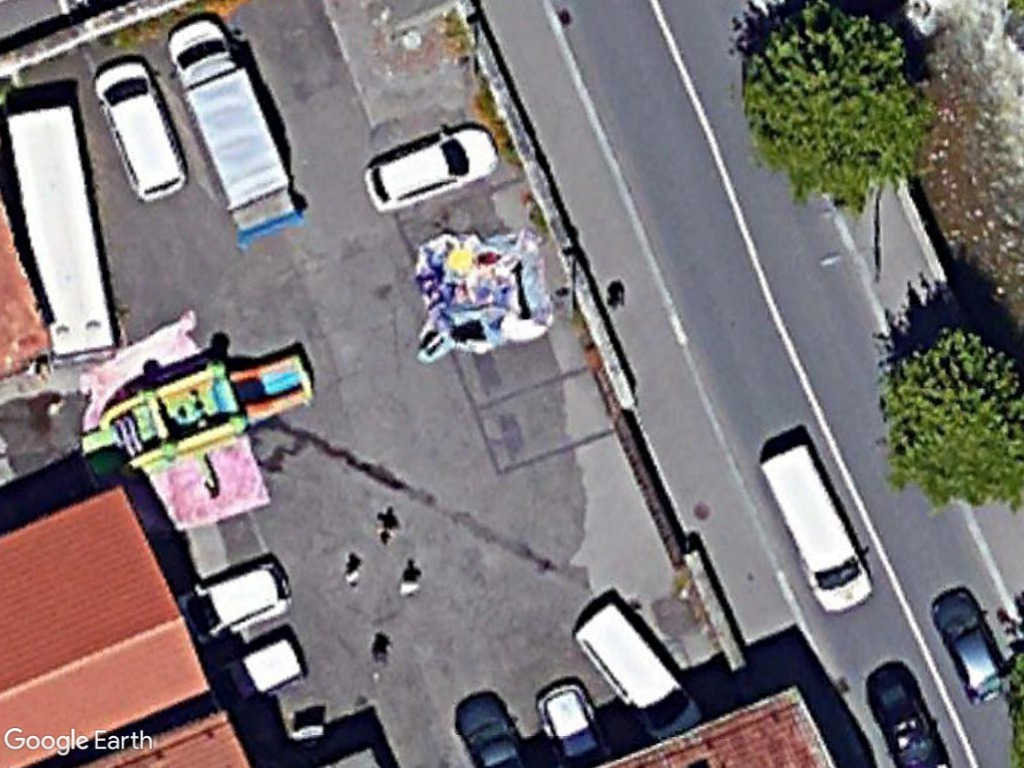car: (361, 115, 500, 223), (929, 582, 1005, 702)
truck: (160, 18, 306, 224)
van: (756, 447, 883, 613), (92, 61, 187, 201)
